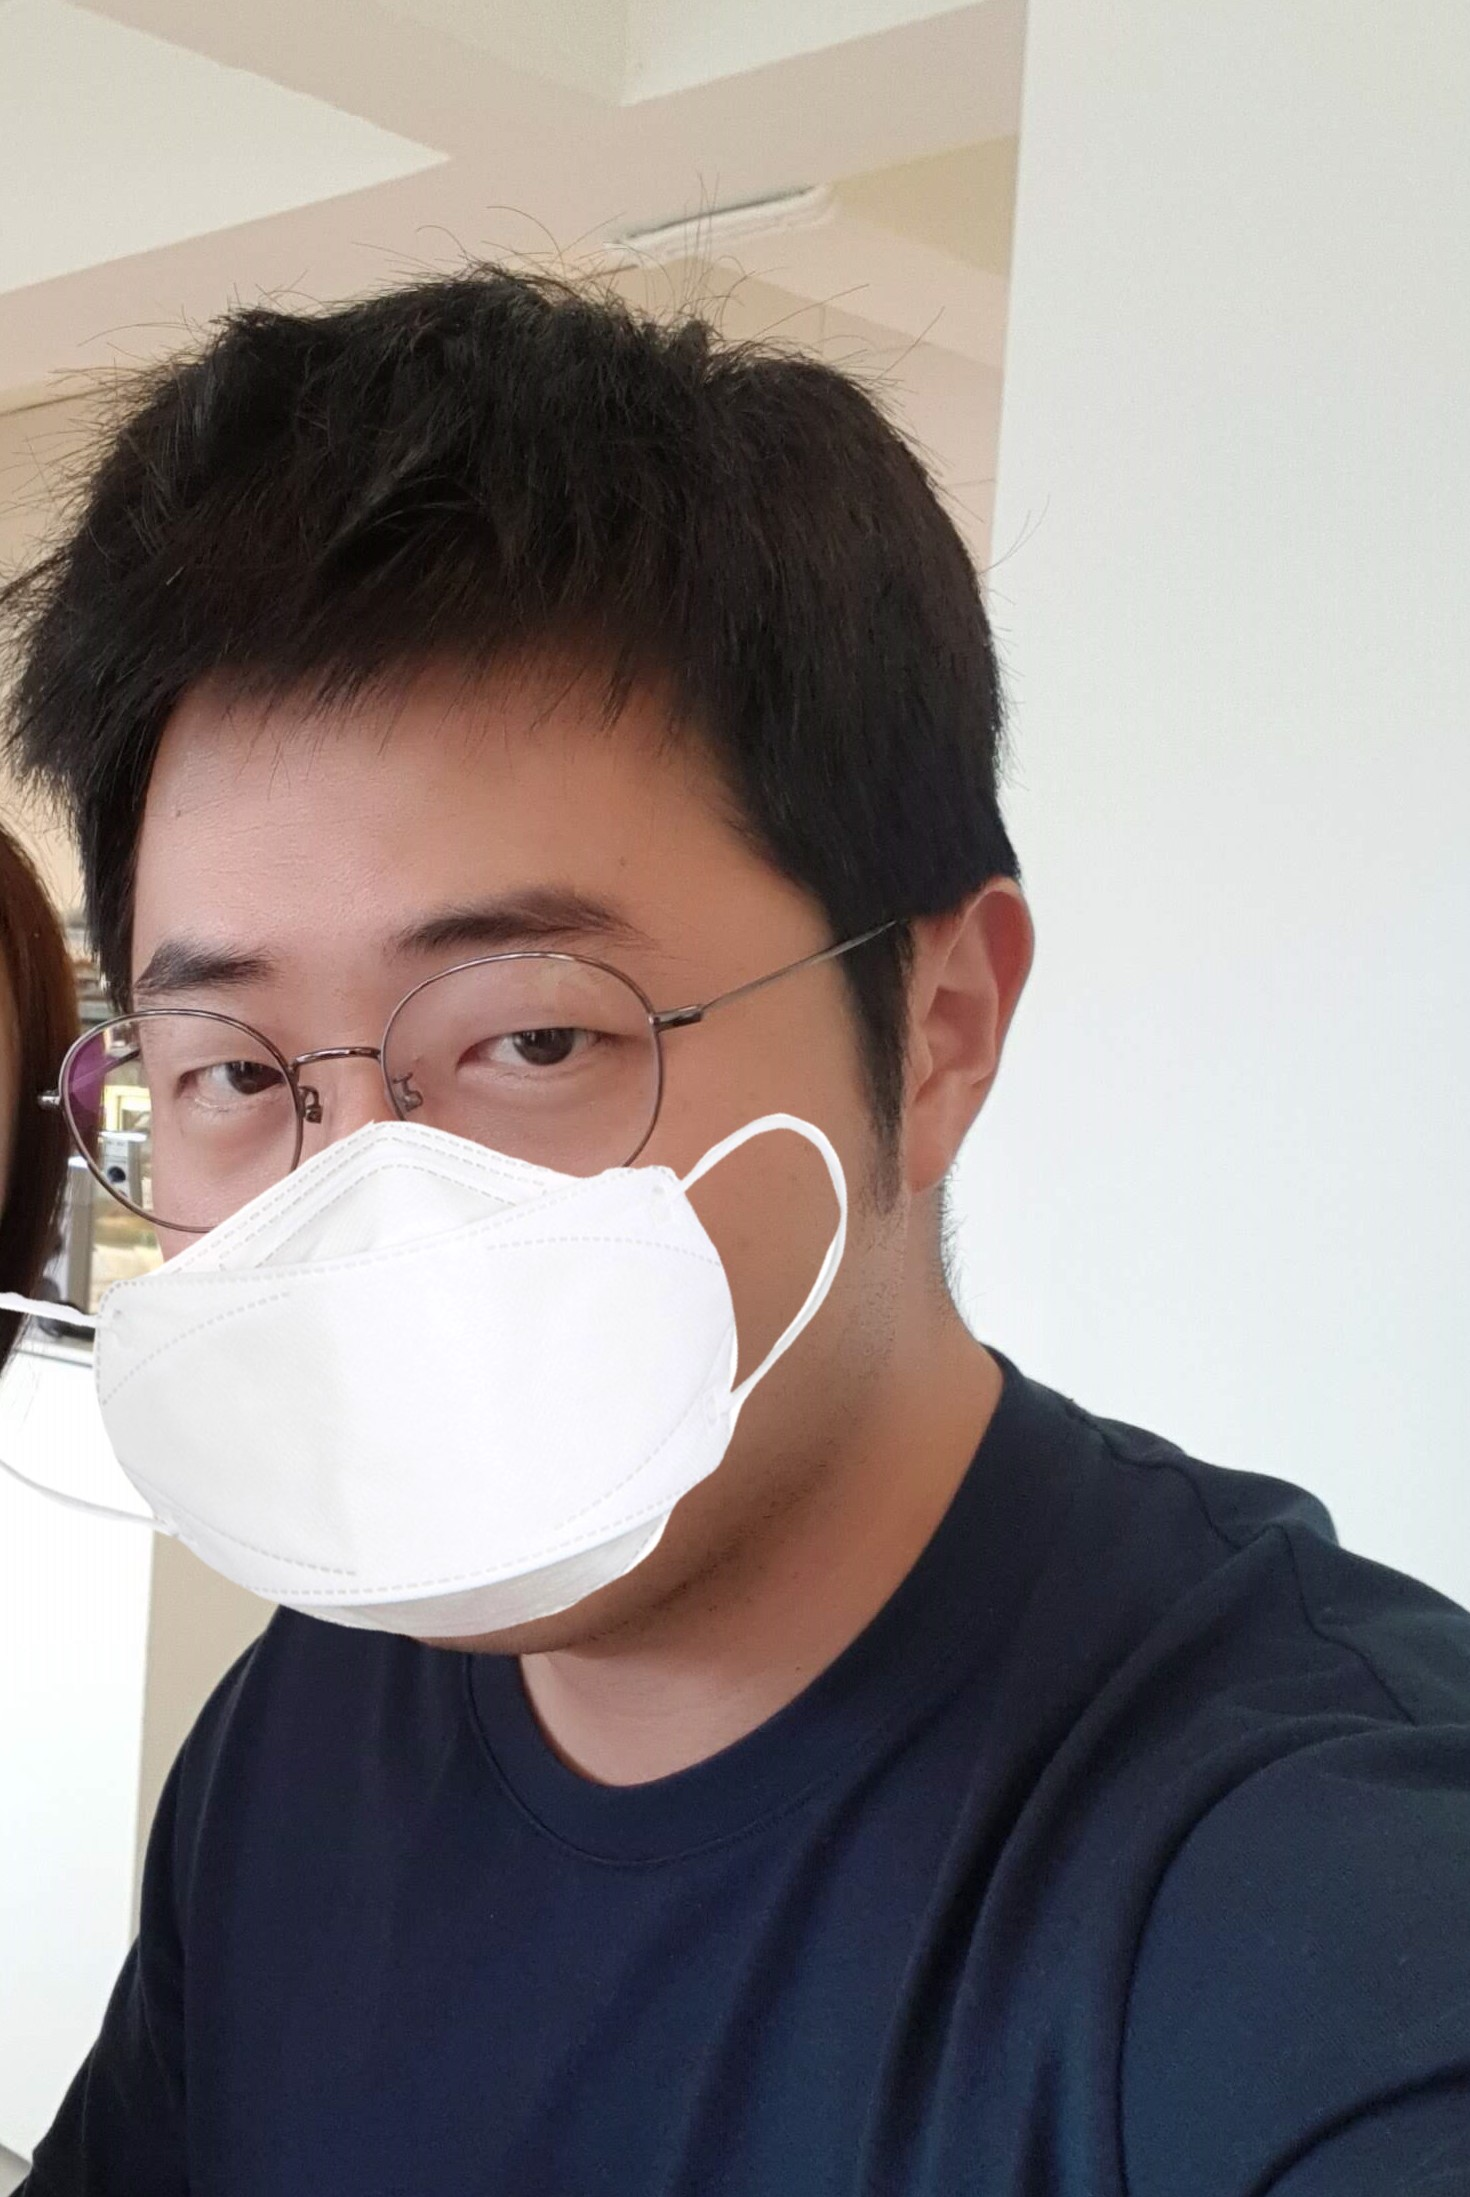mask: (125, 686, 892, 1642)
